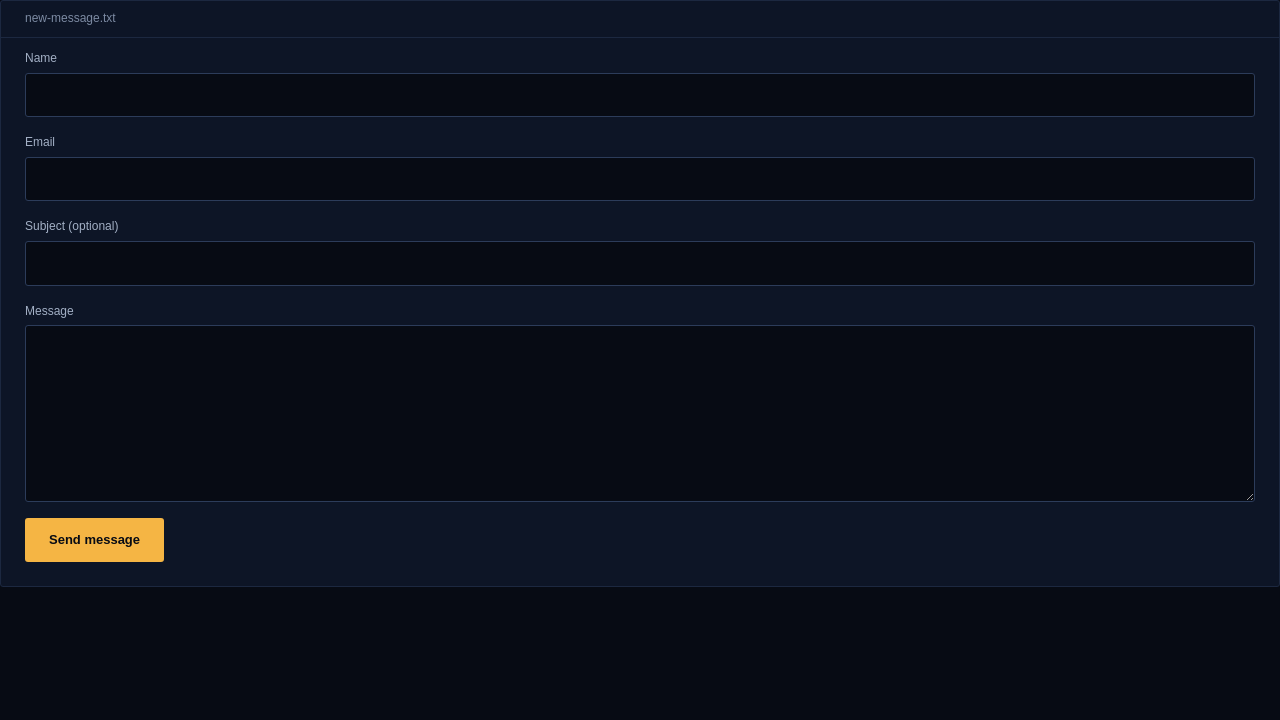
Test case: ContactForm › handles network failures
Type "Ada Lovelace" into the field labelled "Name" at (640, 95), box x1=25 y1=73 x2=1255 y2=117
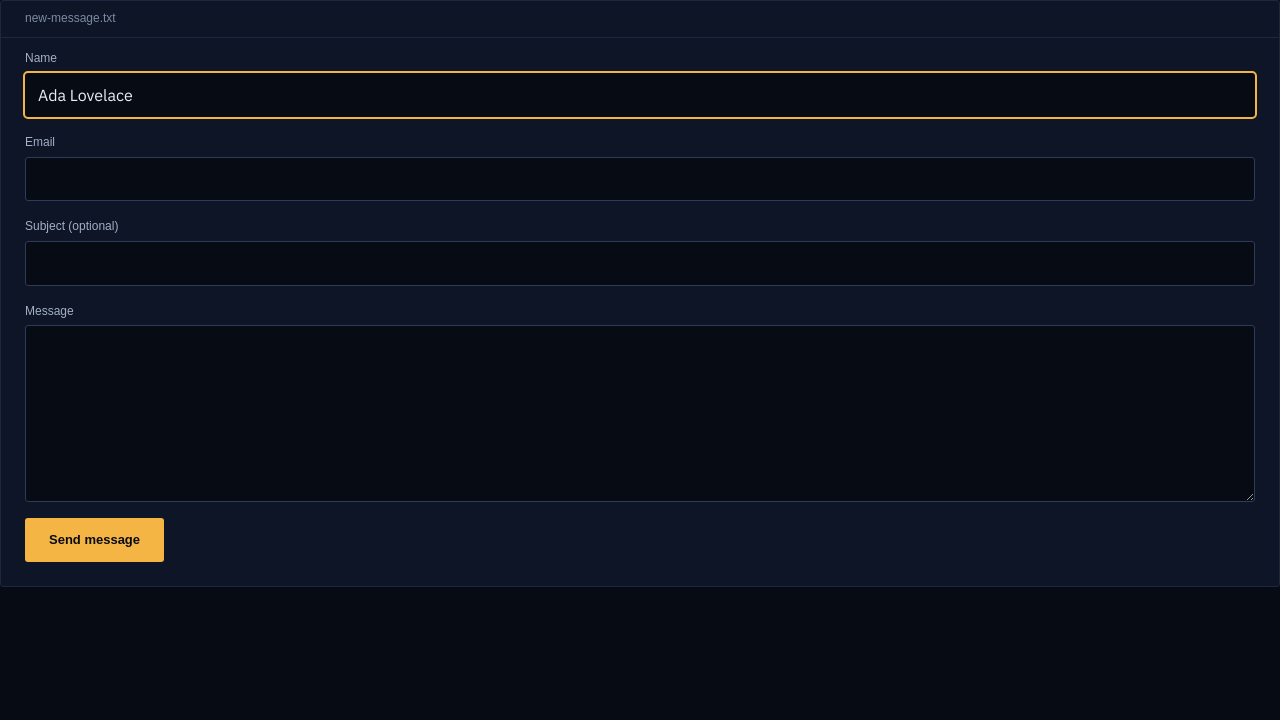
Type "ada@example.com" into the field labelled "Email" at (640, 179), box x1=25 y1=157 x2=1255 y2=201
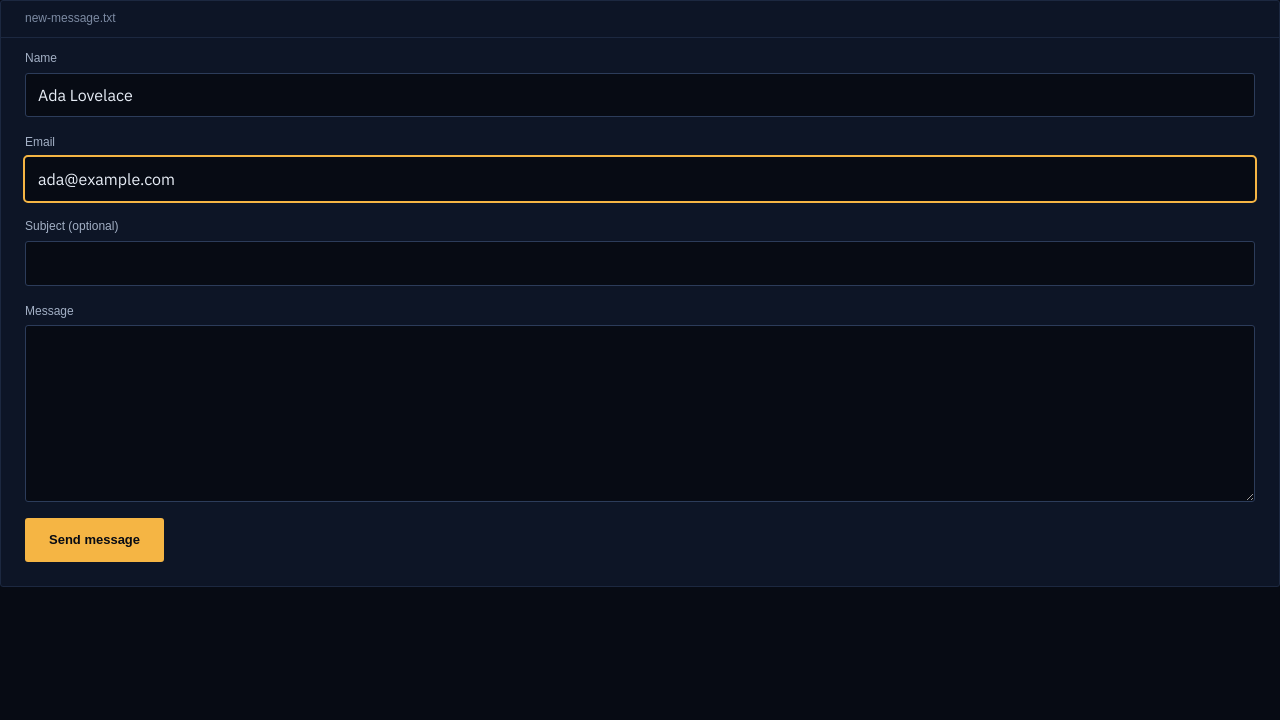
Type "Project" into the field labelled "Subject (optional)" at (640, 263), box x1=25 y1=241 x2=1255 y2=286
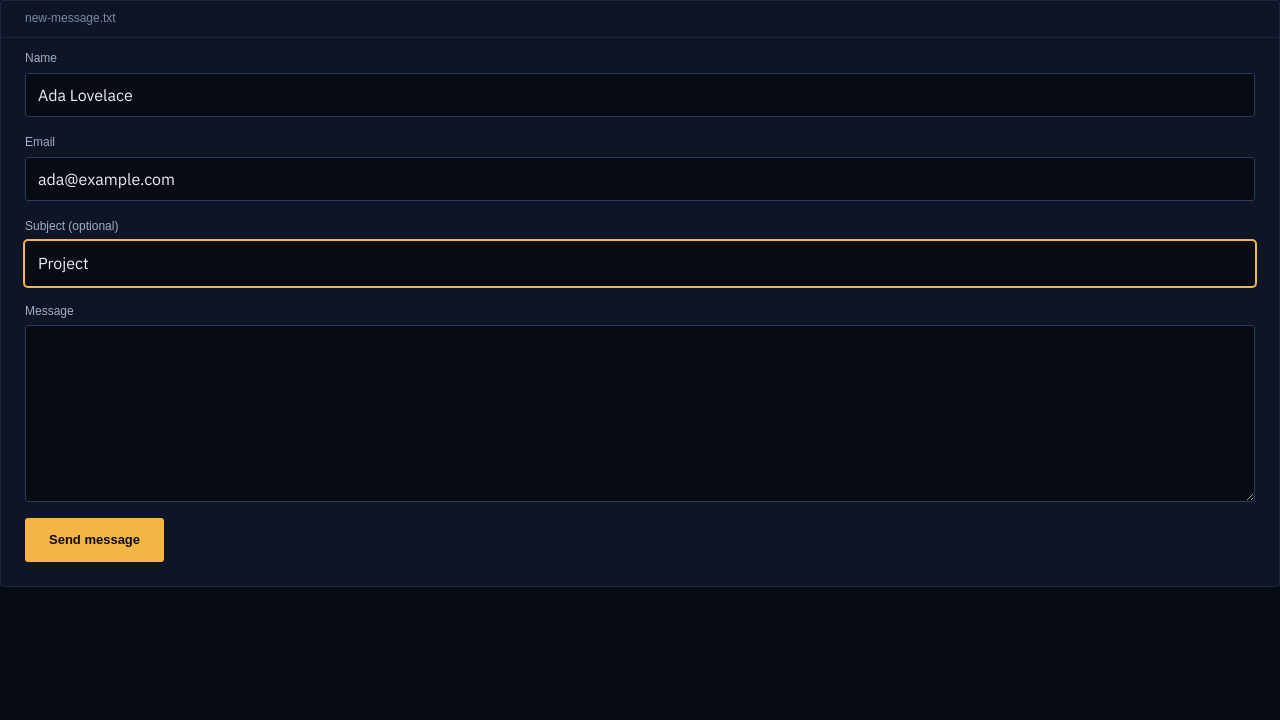
Type "I would like to talk about a project." into the text box labelled "Message" at (640, 414), box x1=25 y1=325 x2=1255 y2=502
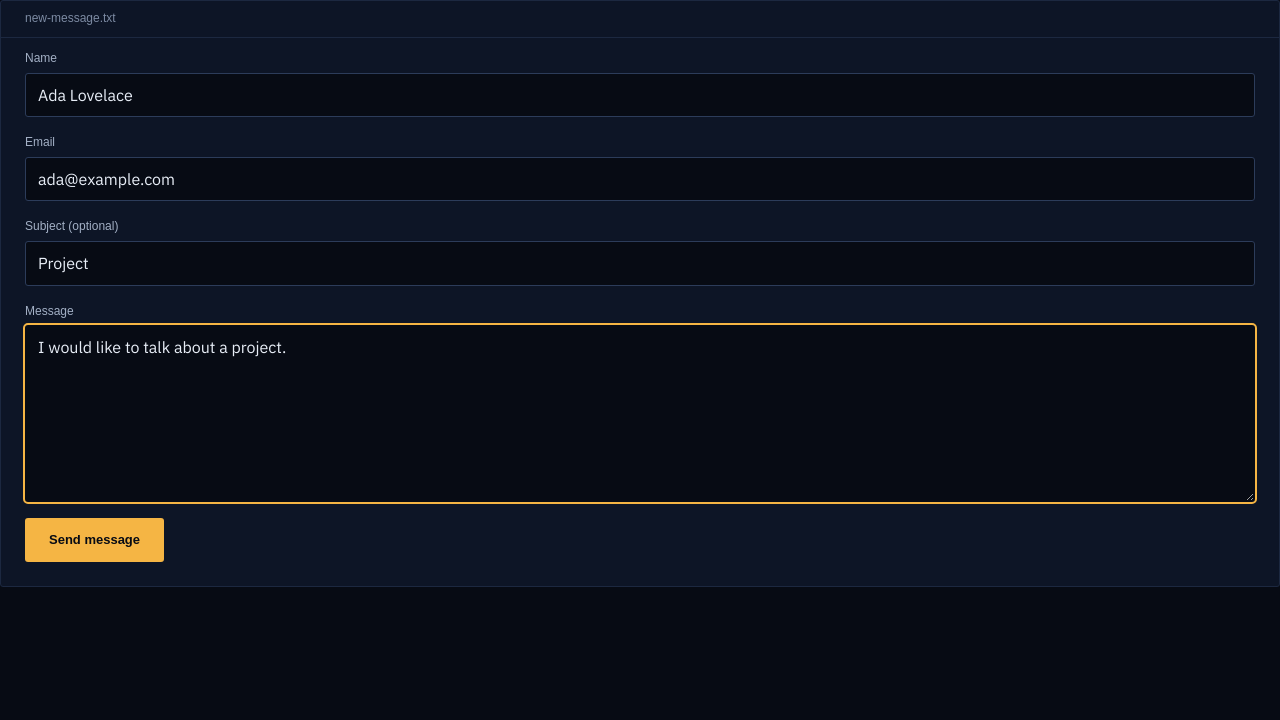
Click the button "Send message" at (94, 540), box x1=25 y1=518 x2=164 y2=562
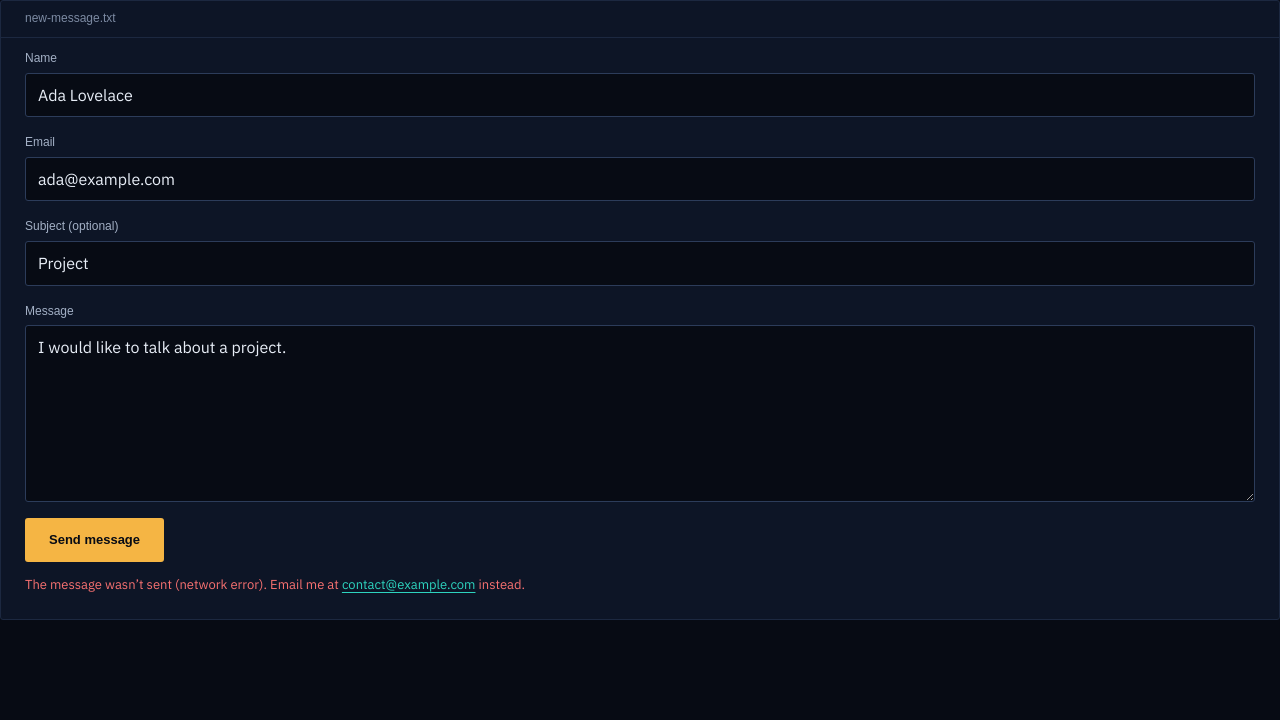
Now the message shows "network", box x1=180 y1=576 x2=259 y2=593
